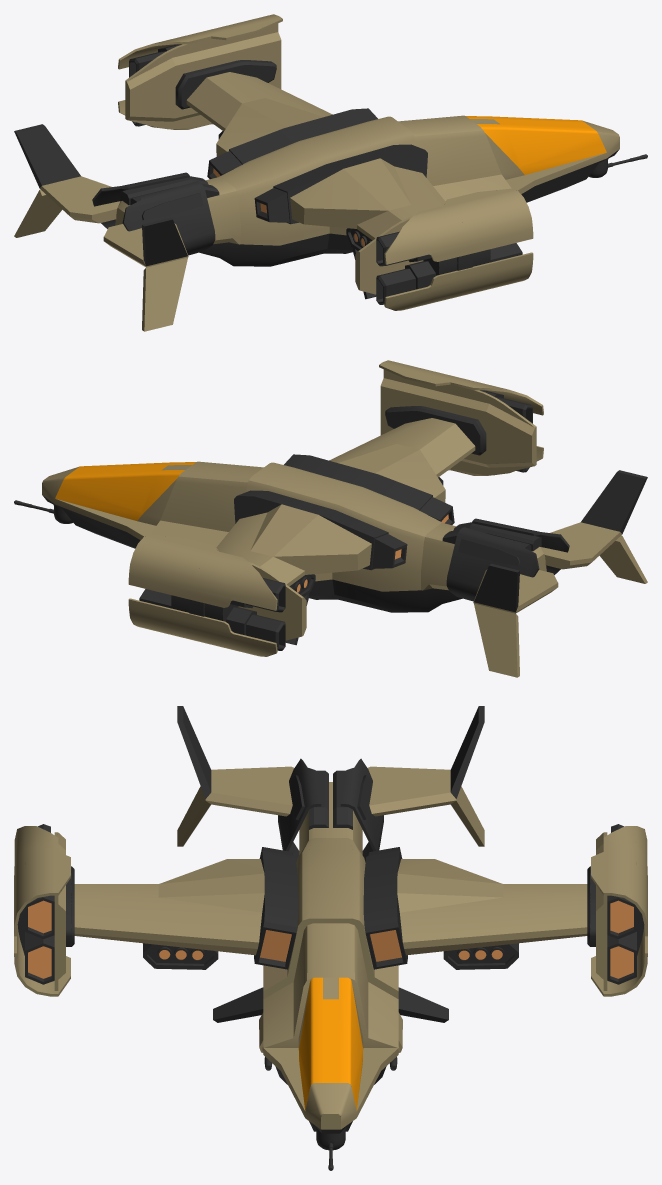
Rendered from ShipBlue.fbx.
3 views of the same model, one above another, from view 1: azimuth 30°, elevation 25°; view 2: azimuth 150°, elevation 25°; view 3: azimuth 270°, elevation 25° (orthographic). The views are drawn at different scales.
Parts seen in each view (by area): view 1: Cube.090, Cube.094; view 2: Cube.090, Cube.094; view 3: Cube.090, Cube.094.
Boxes of the visible parts, x1,y1,x2,y2 form: Cube.090: (14,72,647,331); Cube.094: (118,14,533,310); Cube.090: (14,418,647,677); Cube.094: (128,360,543,656); Cube.090: (74,706,587,1170); Cube.094: (14,824,647,996).
Bounding box in the file's own units: 275 × 66.26 × 225.
Materials: 3 (3 with a texture image).
